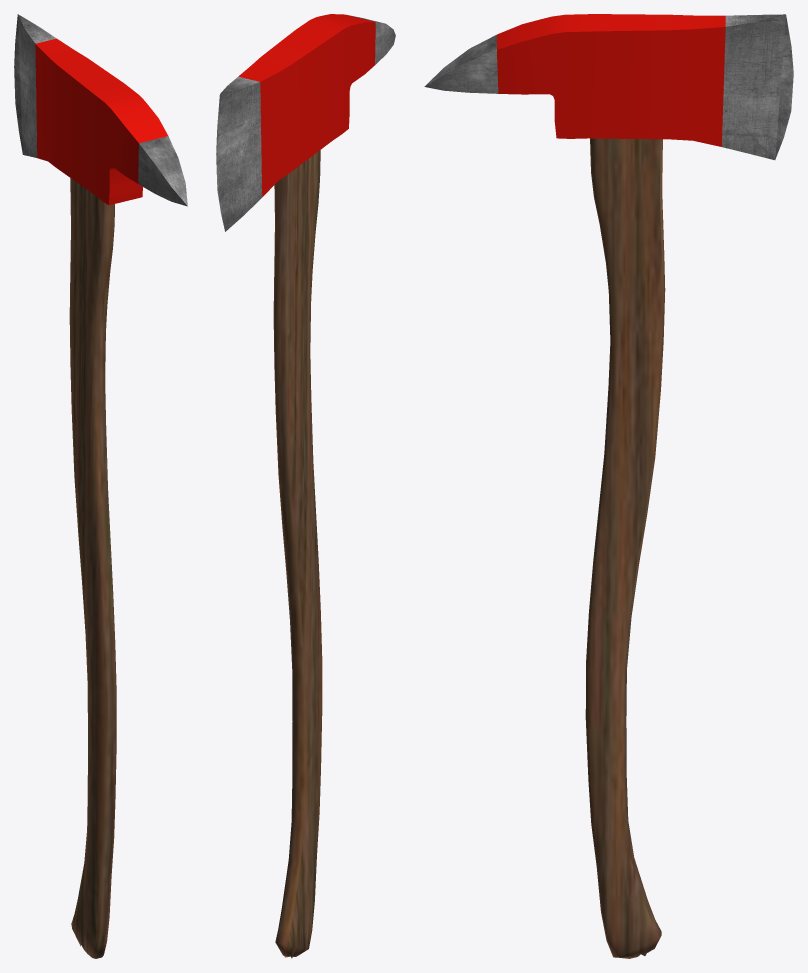
The model's file is Fire_Axe 4.fbx.
3 views of the same model, side by side, from view 1: azimuth 30°, elevation 25°; view 2: azimuth 150°, elevation 25°; view 3: azimuth 270°, elevation 25° (orthographic). The views are drawn at different scales.
Visible parts, largest first — view 1: Cube; view 2: Cube; view 3: Cube.
Boxes of the visible parts, x1=… form: Cube: x1=14, y1=14, x2=187, y2=958; Cube: x1=216, y1=14, x2=395, y2=958; Cube: x1=424, y1=14, x2=793, y2=958.
Bounding box in the file's own units: 16.19 × 409 × 145.
